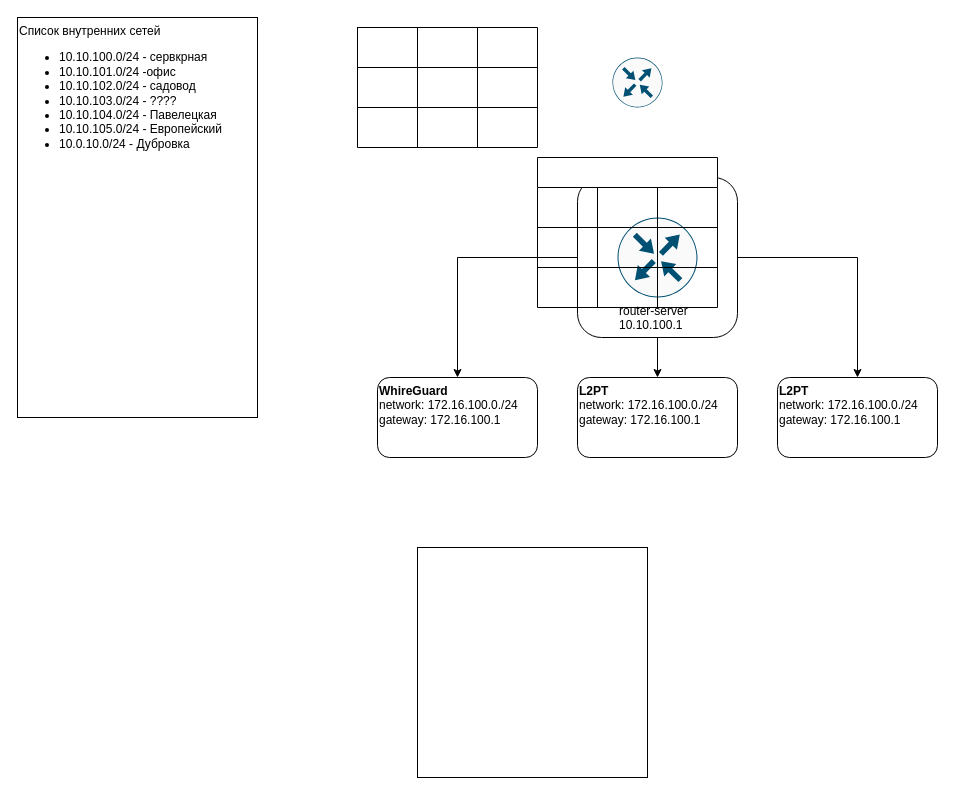
The diagram is 970 pixels wide and 795 high, and some of its shapes have lost their labels. The centre of each missing label's shape, as x and y in pixels:
"router-office 10.10.101.1" belongs at point (637, 82).
"Table" belongs at point (627, 232).
